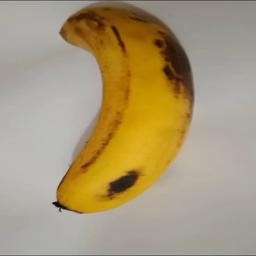Banana Semifresh: (53, 7, 195, 218)
